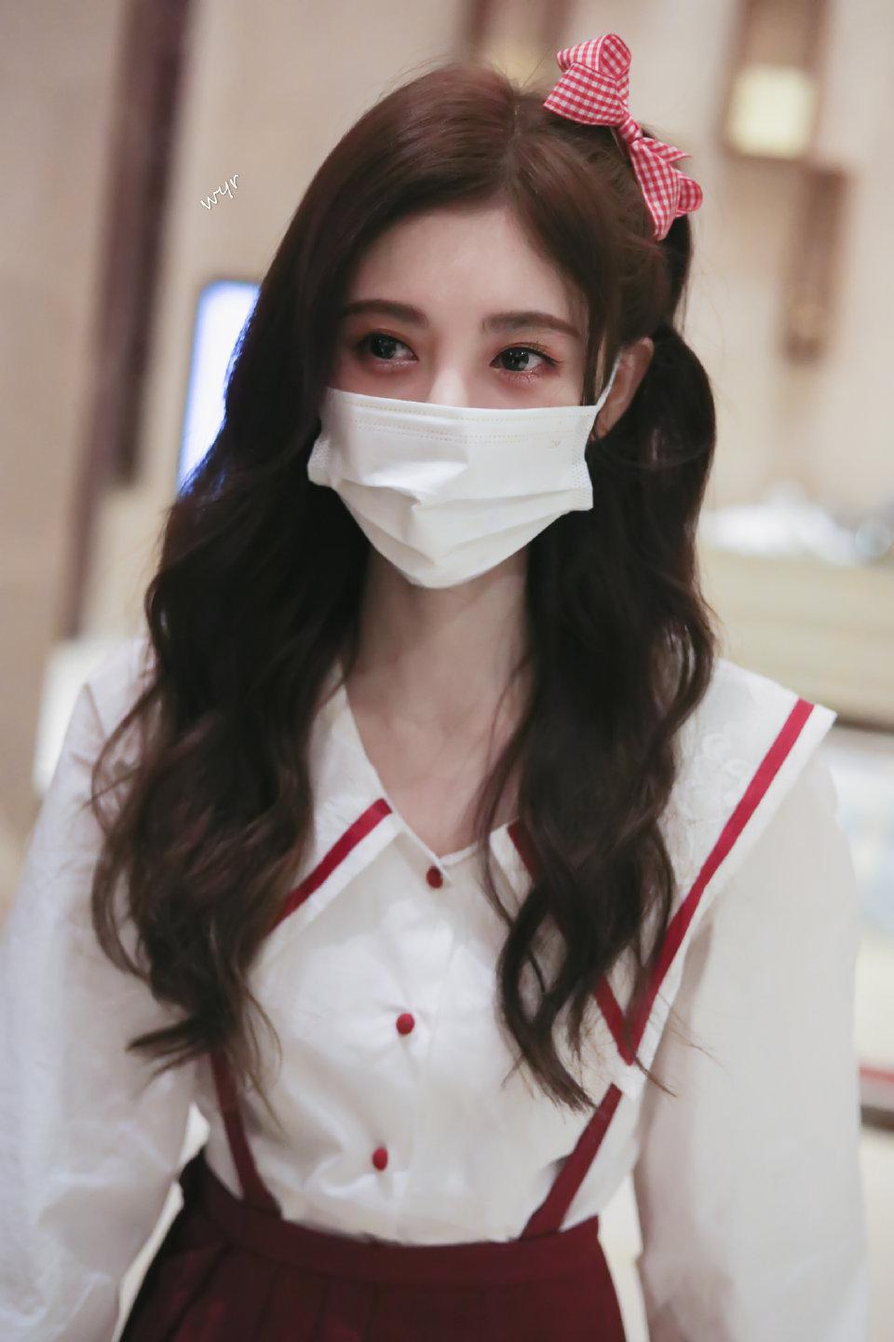OK: (323, 275, 592, 581)
